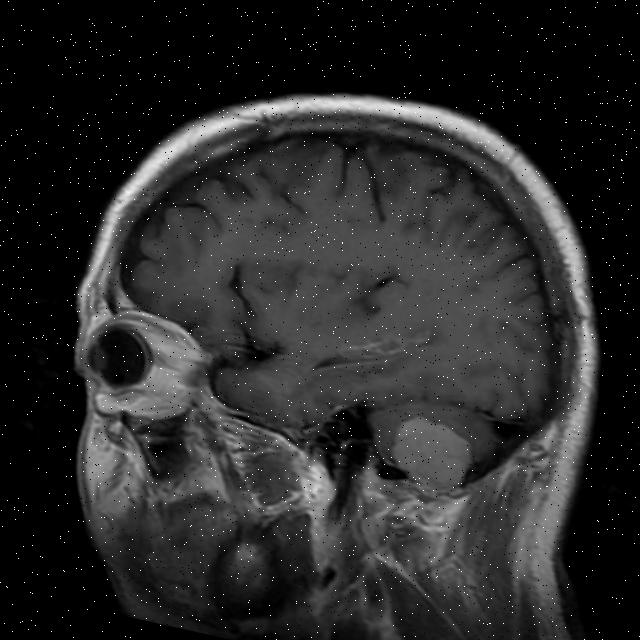Meningioma: (383, 409, 478, 499)
